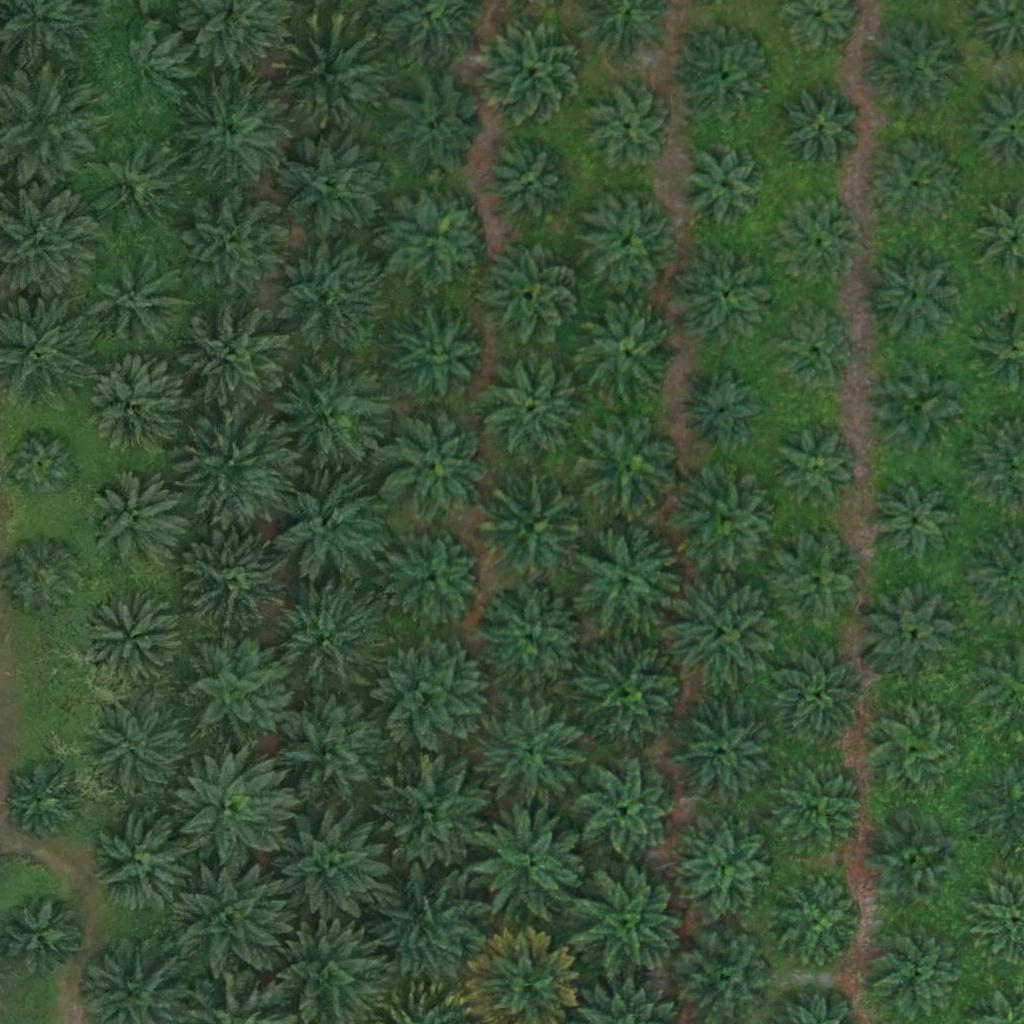Kelapa_Sawit: (477, 14, 590, 127), (276, 127, 389, 240), (272, 237, 385, 350), (172, 74, 285, 187), (178, 191, 291, 304), (180, 409, 293, 522), (181, 526, 294, 639), (277, 357, 390, 470), (274, 471, 387, 584), (268, 582, 381, 695), (276, 697, 389, 810), (376, 637, 489, 750), (379, 751, 492, 864), (378, 869, 491, 982), (569, 524, 682, 637), (667, 576, 780, 689), (670, 696, 783, 809), (178, 302, 290, 416), (176, 866, 288, 980), (273, 22, 385, 135), (176, 635, 288, 748), (175, 756, 287, 869), (278, 808, 390, 921), (381, 411, 493, 524), (476, 350, 588, 463), (483, 477, 595, 590), (476, 583, 588, 696), (476, 702, 588, 815), (473, 808, 585, 921), (576, 642, 688, 755), (577, 866, 689, 979), (679, 244, 779, 345), (578, 191, 678, 292), (578, 308, 678, 409), (482, 245, 582, 346), (387, 78, 487, 179), (388, 188, 488, 289), (385, 302, 485, 403), (81, 359, 181, 460), (87, 471, 187, 572), (82, 589, 182, 690), (387, 528, 487, 629), (577, 762, 677, 863), (769, 757, 869, 858), (869, 356, 969, 457), (870, 920, 970, 1021), (869, 19, 969, 119), (864, 246, 964, 346), (677, 25, 777, 125), (85, 135, 185, 235), (89, 254, 189, 354), (92, 703, 192, 803), (94, 816, 194, 916), (579, 412, 679, 512), (677, 472, 777, 572), (765, 530, 865, 630), (863, 578, 963, 678), (486, 140, 574, 228), (102, 25, 190, 113), (871, 479, 959, 567), (870, 701, 958, 789), (873, 820, 961, 908), (872, 147, 959, 235), (684, 139, 771, 227), (586, 83, 673, 171), (682, 826, 769, 914), (777, 650, 864, 738), (773, 879, 860, 967), (786, 93, 861, 169), (784, 204, 859, 280), (5, 763, 80, 839), (687, 374, 762, 450), (781, 427, 856, 503), (776, 319, 851, 394), (3, 427, 78, 502)
